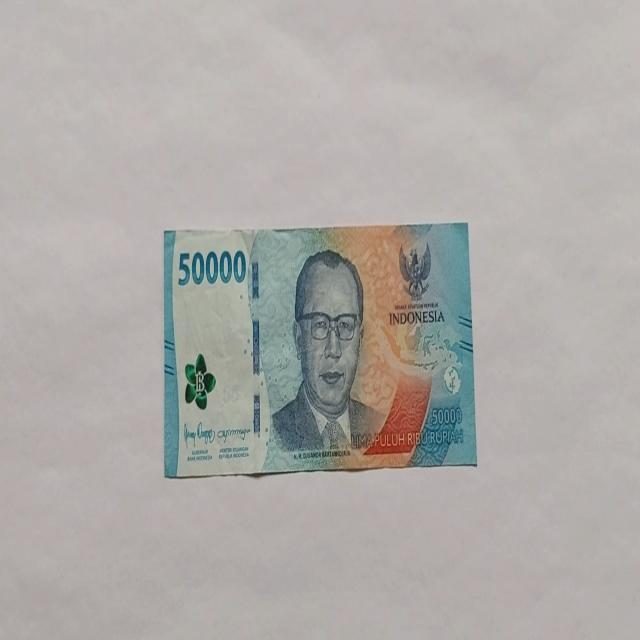lima puluh ribu rupiah: (163, 222, 477, 478), (266, 247, 388, 459)
